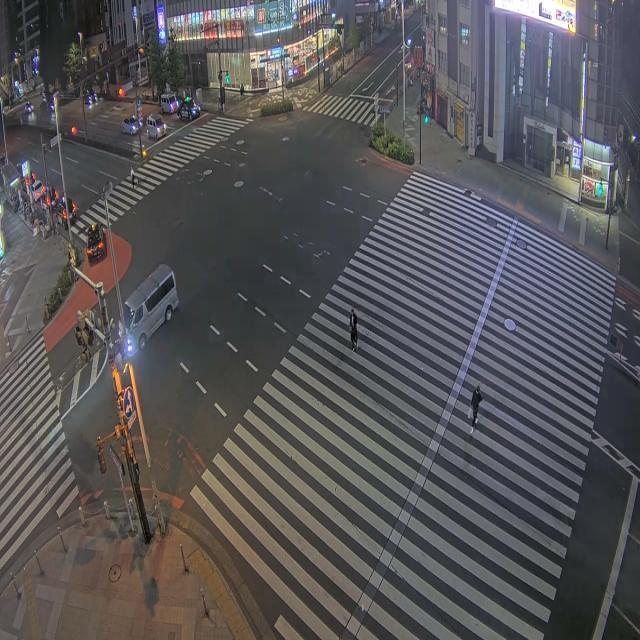car: (86, 224, 105, 261), (56, 193, 77, 226), (178, 96, 200, 119), (122, 116, 141, 135), (32, 180, 46, 202), (55, 204, 67, 227), (83, 89, 96, 105), (25, 102, 33, 113)
van: (124, 264, 178, 352), (146, 114, 166, 139), (160, 94, 178, 113)
